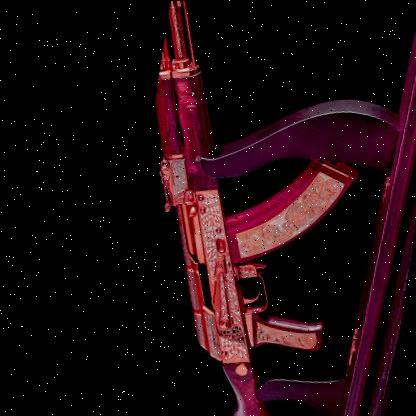rifle: (117, 29, 416, 416)
